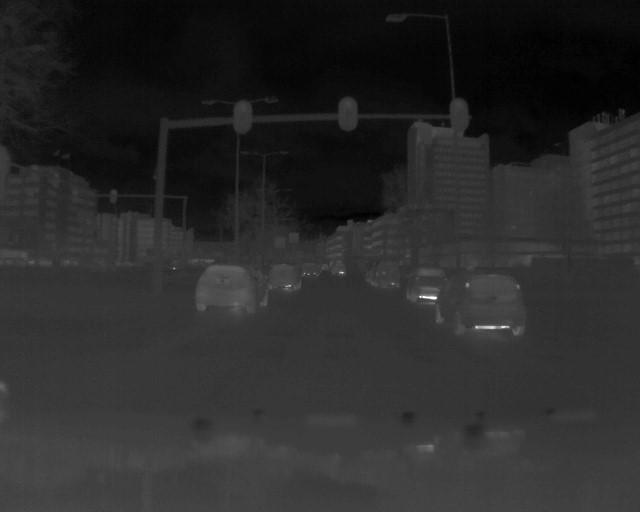car: (431, 273, 527, 336), (192, 259, 271, 315), (403, 264, 448, 304), (372, 257, 403, 290), (268, 263, 304, 291)
